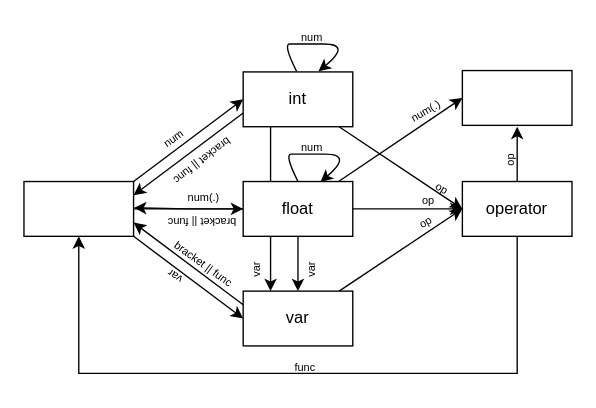
The diagram is 596 pixels wide and 408 high, and some of its shapes have lost their labels. The centre of each missing label's shape, as x and y in pixels:
error: the point at 516,97
null: the point at 78,208
